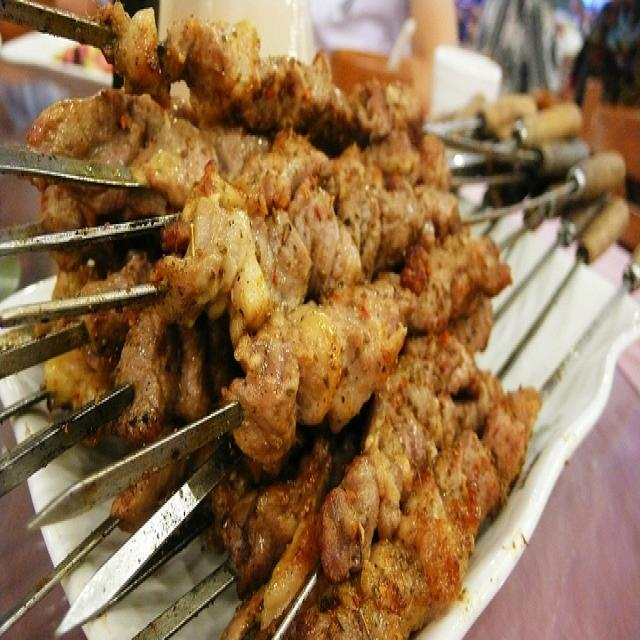烧串烤肉: (26, 18, 574, 634)
